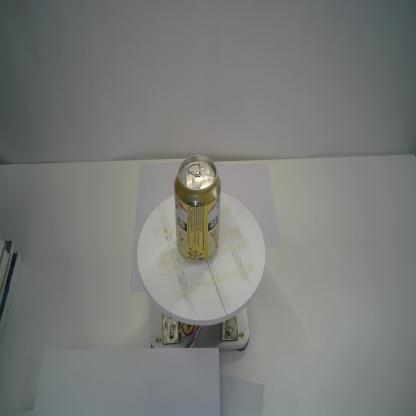Alcohol: (173, 154, 222, 266)
